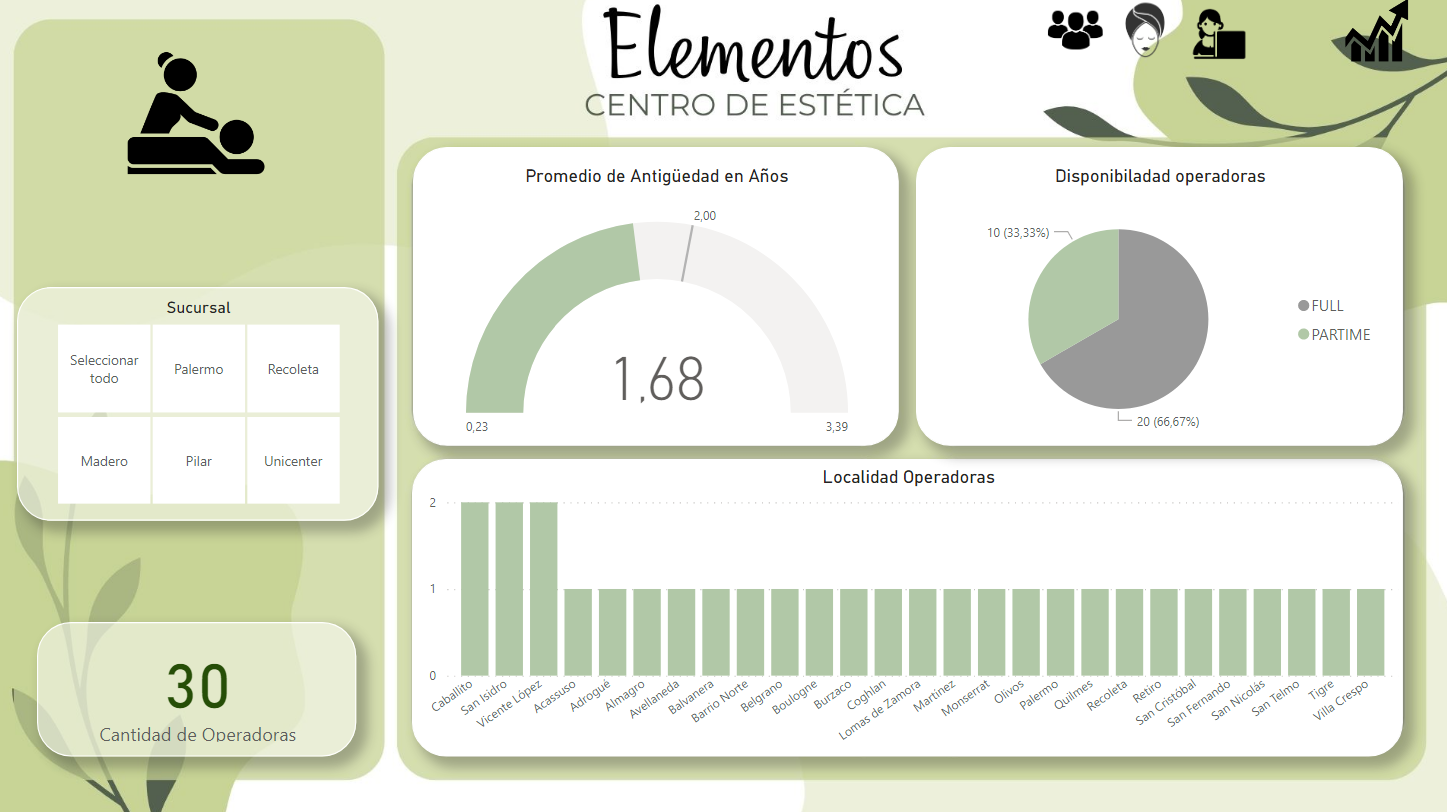

The dashboard page shown, as its layout file describes it:
{"tool":"powerbi","page":{"name":"OPERADORAS","canvas":[1280,720],"ordinal":2},"visuals":[{"type":"card","fields":{"Values":["Calculos.Cantidad de Operadoras"]},"box":[40.6,551.8,280.2,117.6],"z":0},{"type":"image","box":[44.2,45.2,273.3,152.7],"z":1000},{"type":"image","box":[937.4,2.1,149.2,60.7],"z":2000},{"type":"image","box":[1012.5,0,127.6,74.1],"z":3000},{"type":"image","box":[912.7,10.3,75.1,44.2],"z":4000},{"type":"gauge","title":"Promedio de Antigüedad en Años","fields":{"Y":["Avg(operadoras.Antiguedad)"],"MinValue":["Min(operadoras.Antiguedad)1"],"MaxValue":["Max(operadoras.Antiguedad)2"]},"box":[370,134.7,425.6,262],"z":5000},{"type":"slicer","title":"Sucursal","fields":{"Values":["sucursales.nombre_sucursal"]},"box":[22.5,257.7,316.5,205.3],"z":6000},{"type":"columnChart","title":"Localidad Operadoras","fields":{"Category":["operadoras.localidad_operadora"],"Y":["CountNonNull(operadoras.id_operadora)"]},"box":[368.9,408.5,869.4,260.9],"z":7000},{"type":"pieChart","title":"Disponibilidad operadoras","fields":{"Series":["operadoras.dispo_operadora"],"Y":["CountNonNull(operadoras.id_operadora)"]},"box":[811.6,134.7,426.7,262],"z":8000},{"type":"image","box":[1163.5,0,103.5,65.3],"z":8001}]}

Visuals, with their boxes in screenshot pixels (x1, y1, x2, y2), scaled from the page's 1280x720 canvas onto the 1447x812 screenshot:
card - Calculos.Cantidad de Operadoras: <box>46,622,363,755</box>
image: <box>50,51,359,223</box>
image: <box>1060,2,1228,71</box>
image: <box>1145,0,1289,84</box>
image: <box>1032,12,1117,61</box>
"Promedio de Antigüedad en Años" gauge: <box>418,152,899,447</box>
"Sucursal" slicer: <box>25,291,383,522</box>
"Localidad Operadoras" columnChart: <box>417,461,1400,755</box>
"Disponibilidad operadoras" pieChart: <box>917,152,1400,447</box>
image: <box>1315,0,1432,74</box>
